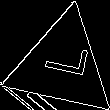L_W: (35, 45, 89, 86)
